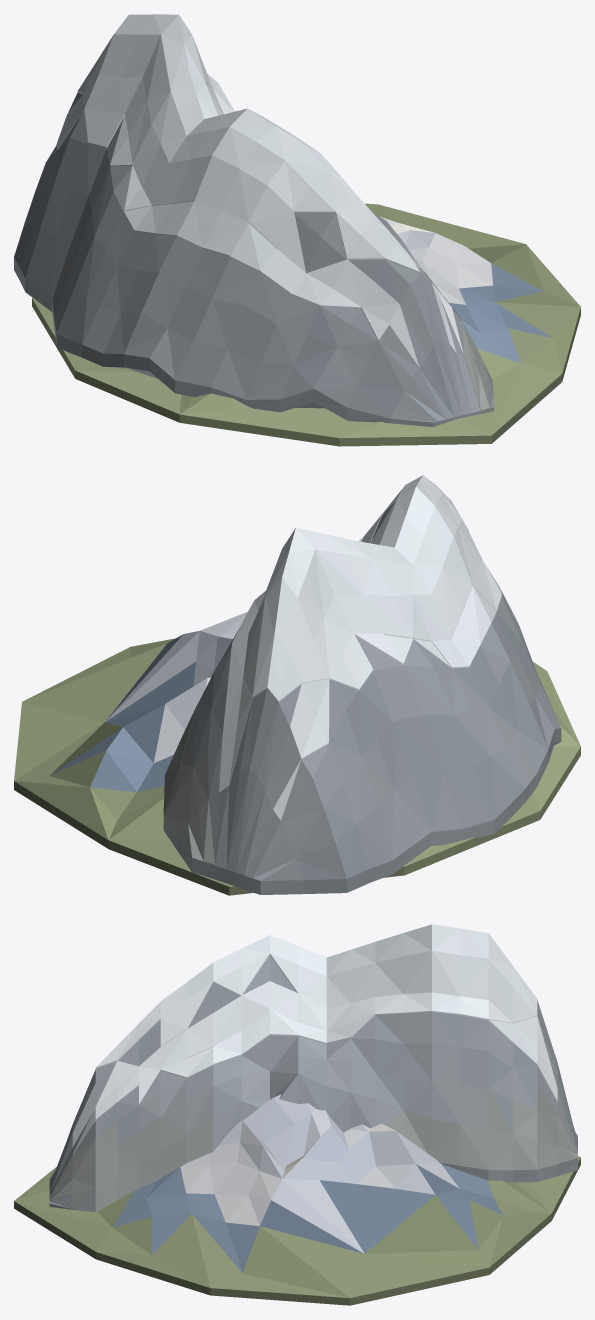
The model's file is massif_west_spur_rim53.glb.
3 renders of one model, top to bottom at view 1: azimuth 30°, elevation 25°; view 2: azimuth 150°, elevation 25°; view 3: azimuth 270°, elevation 25°, orthographic. The views are drawn at different scales.
Parts seen in each view (by area): view 1: ridge_shoulders, snow_cap, rock_body, snow_gully, shore_rock_apron; view 2: ridge_shoulders, rock_body, snow_cap, snow_gully, shore_rock_apron; view 3: rock_body, ridge_shoulders, snow_cap, shore_rock_apron, snow_gully.
Boxes of the visible parts, box(x1,y1,x2,y2) form: ridge_shoulders: box(14, 92, 493, 426); snow_cap: box(77, 14, 420, 273); rock_body: box(32, 203, 580, 446); snow_gully: box(56, 94, 463, 368); shore_rock_apron: box(444, 297, 493, 410); ridge_shoulders: box(163, 502, 561, 894); rock_body: box(14, 611, 580, 895); snow_cap: box(232, 475, 501, 702); snow_gully: box(219, 566, 501, 821); shore_rock_apron: box(163, 703, 214, 865); rock_body: box(14, 1094, 580, 1305); ridge_shoulders: box(49, 955, 577, 1211); snow_cap: box(95, 924, 537, 1068); shore_rock_apron: box(49, 1085, 577, 1211); snow_gully: box(72, 1016, 557, 1153).
Size of the model in its own units: 598 by 340 by 700.
